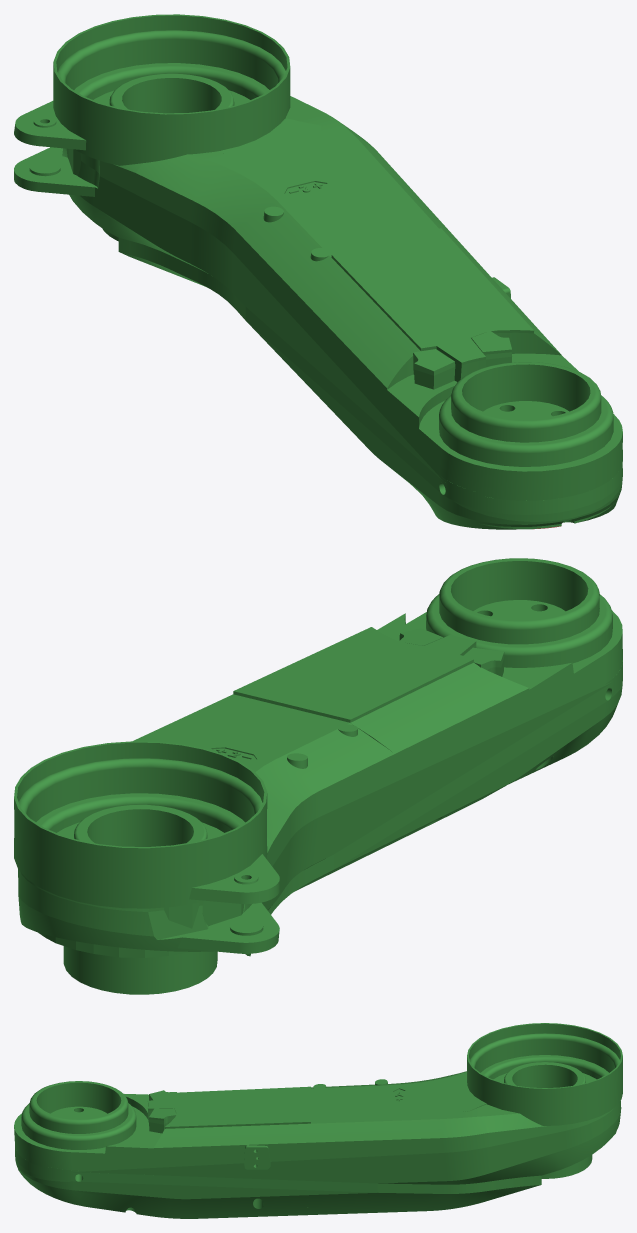
3 renders of one model, top to bottom at view 1: azimuth 30°, elevation 25°; view 2: azimuth 150°, elevation 25°; view 3: azimuth 270°, elevation 25°, orthographic. The views are drawn at different scales.
Visible parts, largest first — view 1: Body2, Body1; view 2: Body2, Body1; view 3: Body2, Body1.
Part boxes in pixels (box(x1,y1,x2,y2)): Body2: box(14, 14, 622, 529); Body1: box(288, 228, 622, 500); Body2: box(14, 600, 622, 994); Body1: box(233, 558, 622, 816); Body2: box(15, 1023, 622, 1218); Body1: box(14, 1081, 310, 1180).
Bounding box in the file's own units: 99.93 × 76.47 × 297.
